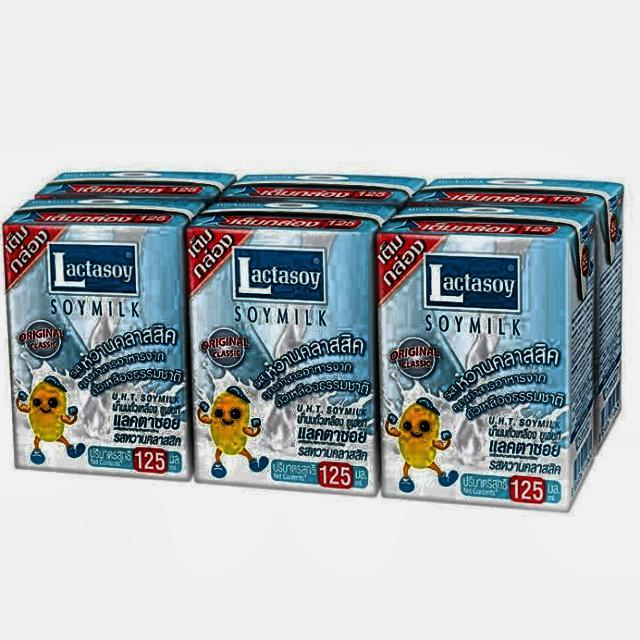cardboard: (374, 177, 624, 512), (184, 172, 424, 498), (1, 169, 234, 481)
